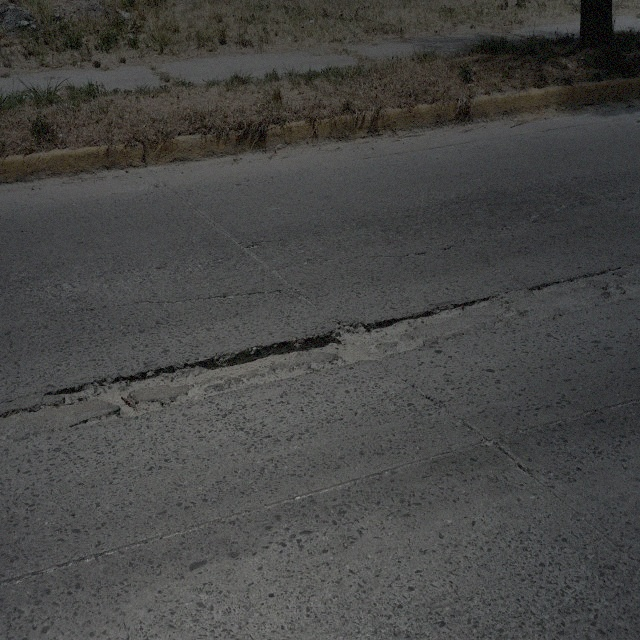pothole: (92, 319, 338, 431), (371, 291, 501, 369), (532, 265, 624, 324)
